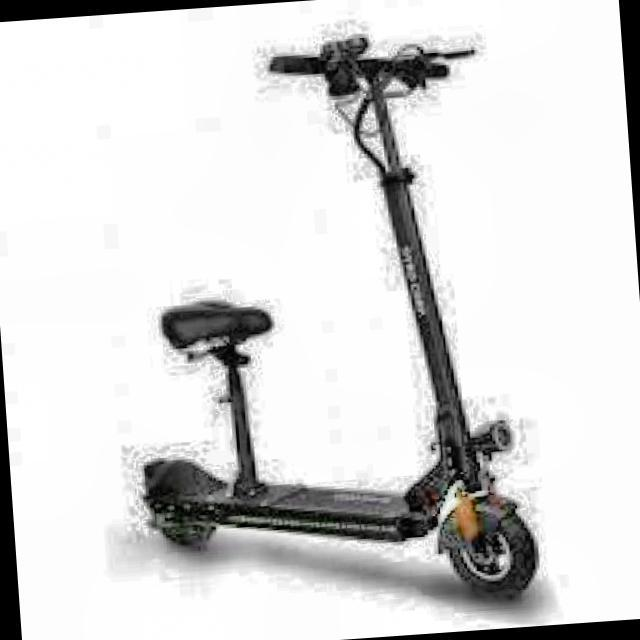bike: (132, 27, 540, 597)
